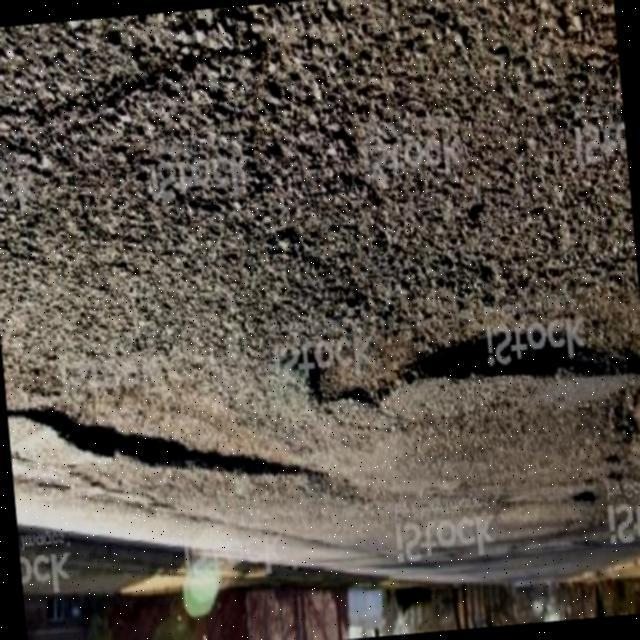Pothole: (289, 271, 640, 410), (7, 377, 330, 480)
